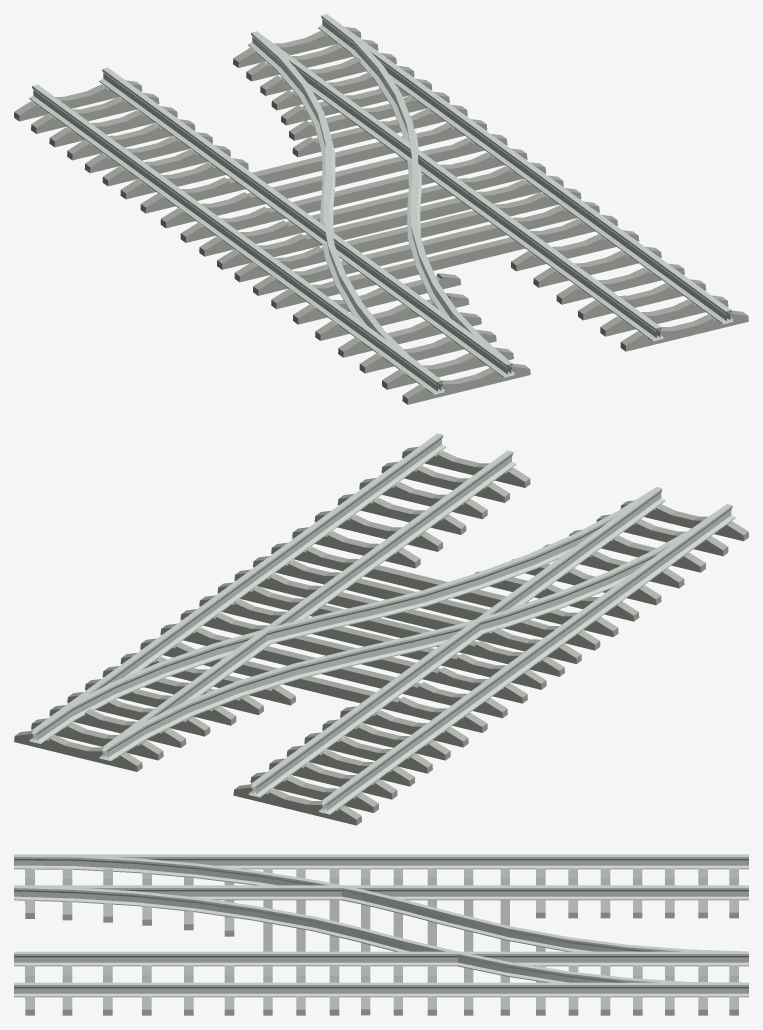
Rendered from SM_Railway_02.fbx.
3 views of the same model, one above another, from view 1: azimuth 30°, elevation 25°; view 2: azimuth 150°, elevation 25°; view 3: azimuth 270°, elevation 25° (orthographic). The views are drawn at different scales.
Parts seen in each view (by area): view 1: SM_Railway_02; view 2: SM_Railway_02; view 3: SM_Railway_02.
Part boxes in pixels (bbox=[...]): SM_Railway_02: bbox=[14, 14, 748, 404]; SM_Railway_02: bbox=[14, 433, 748, 825]; SM_Railway_02: bbox=[14, 854, 748, 1015].
Bounding box in the file's own units: 782 × 47.76 × 1600.
Materials: 1 (1 with a texture image).
